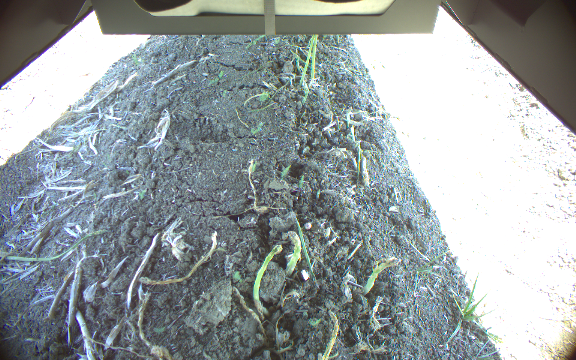aspa: (251, 244, 283, 315), (360, 256, 398, 296), (296, 34, 316, 85), (283, 229, 301, 279), (309, 33, 321, 83)
